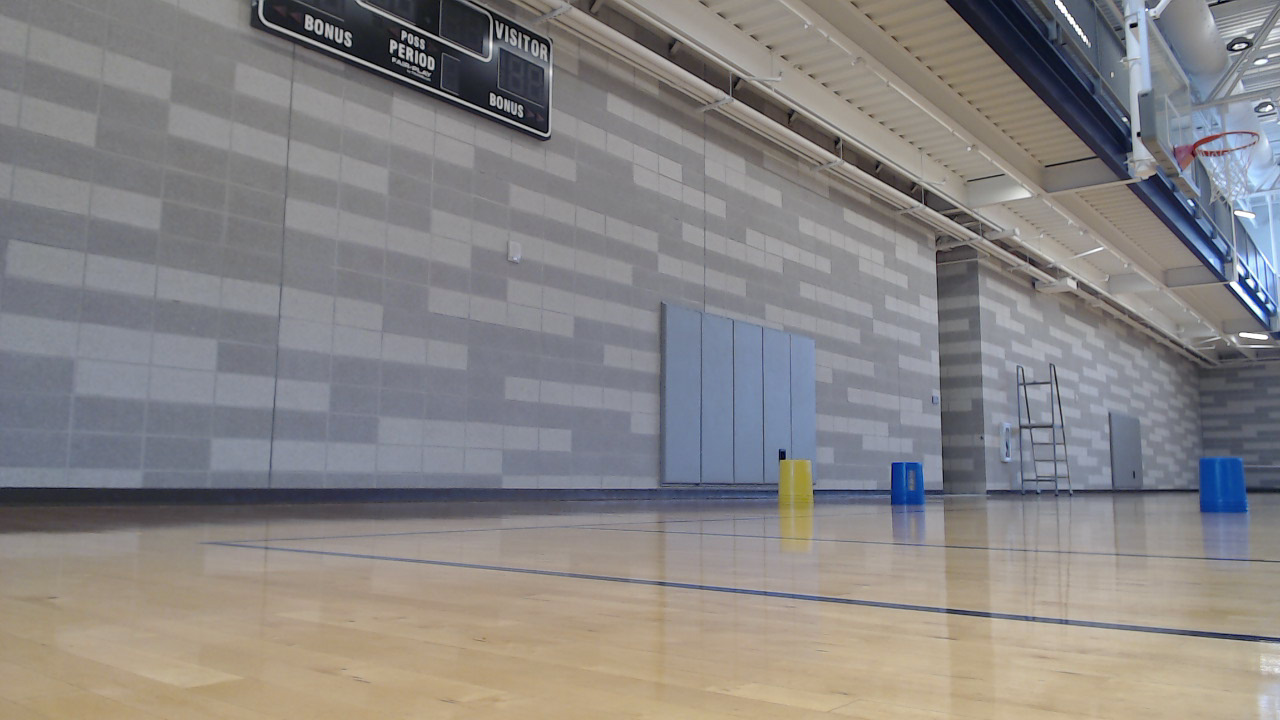blue_bucket: (1197, 458, 1257, 523), (891, 464, 933, 514)
yellow_bucket: (776, 459, 825, 515)
